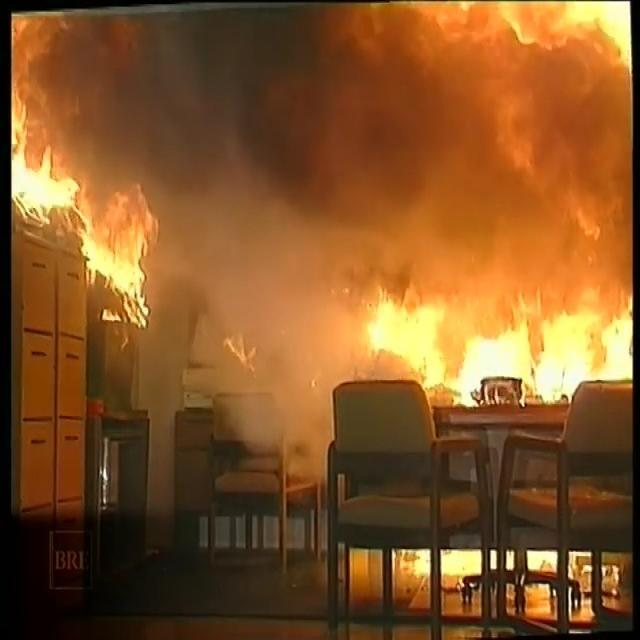Fire: (14, 15, 632, 385)
